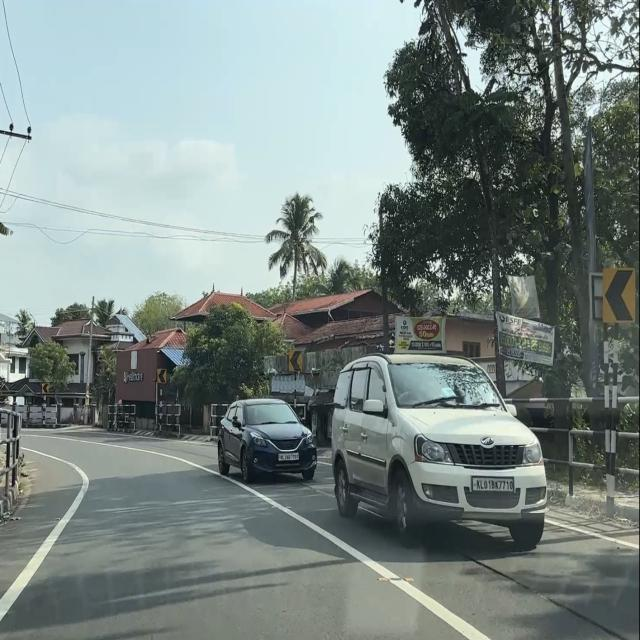TURN_LEFT: (602, 266, 636, 324), (288, 350, 302, 372), (157, 368, 167, 384), (42, 383, 49, 394)
